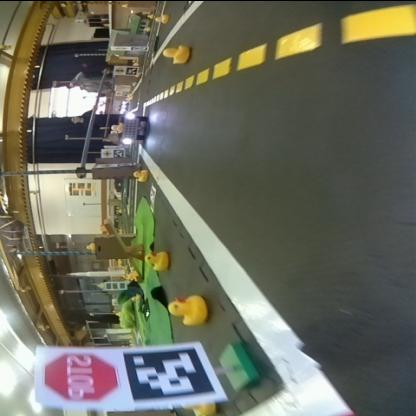Duckie: (170, 296, 208, 324), (144, 249, 168, 268), (164, 45, 188, 61), (133, 168, 147, 180), (155, 13, 167, 21), (114, 121, 122, 132), (86, 241, 94, 248)
Duckiebot: (121, 113, 146, 142)
Intersection sign: (101, 148, 111, 156)
QR code: (121, 347, 218, 401), (125, 65, 137, 74), (115, 148, 124, 156)
Signal sign: (113, 64, 124, 72)
Stop sign: (42, 349, 118, 403)
